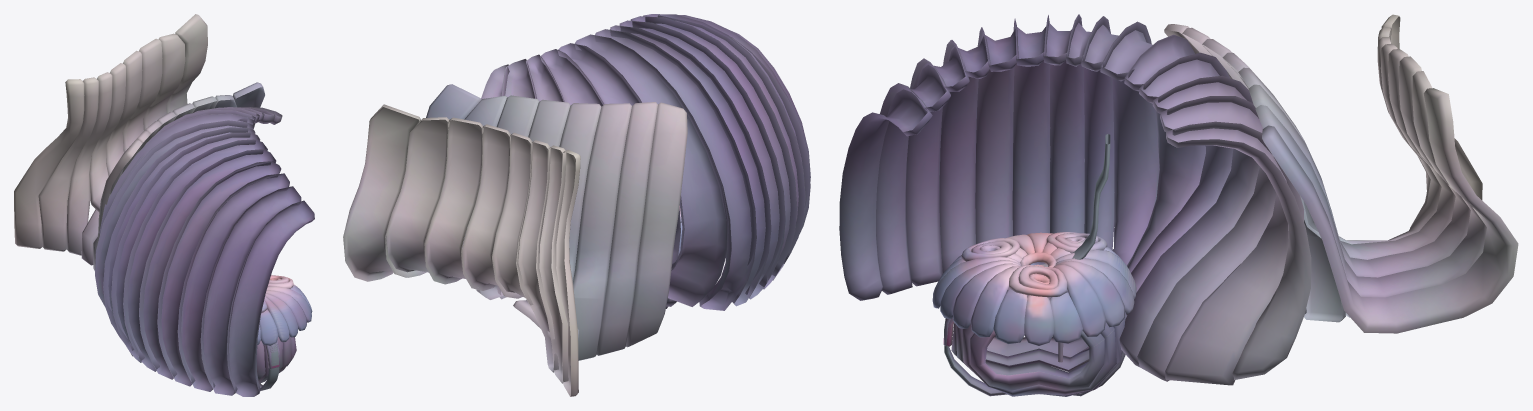
Rendered from Muscles.fbx.
The picture shows the model from 3 angles, left to right: view 1: azimuth 30°, elevation 25°; view 2: azimuth 150°, elevation 25°; view 3: azimuth 270°, elevation 25°; orthographic projection. The views are drawn at different scales.
Parts seen in each view (by area): view 1: Muscles_Room_Front, Muscles_Room_Light, Muscles_Hole, Muscles, Muscles_Single; view 2: Muscles_Room_Light, Muscles_Room_Front; view 3: Muscles_Room_Front, Muscles_Room_Light, Muscles_Hole, Muscles, Muscles_Single_3, Muscles_Single.
Part boxes in pixels (x1,y1,x2,y2): Muscles_Room_Front: (95,107,314,396); Muscles_Room_Light: (14,14,264,270); Muscles_Hole: (257,275,312,345); Muscles: (256,309,296,383); Muscles_Single: (259,343,279,390); Muscles_Room_Light: (343,84,687,396); Muscles_Room_Front: (476,14,810,310); Muscles_Room_Front: (839,14,1311,385); Muscles_Room_Light: (1164,14,1518,333); Muscles_Hole: (932,232,1136,345); Muscles: (951,287,1127,396); Muscles_Single_3: (943,134,1110,345); Muscles_Single: (944,318,1125,396).
Bounding box in the file's own units: 2707 × 2848 × 4805.
